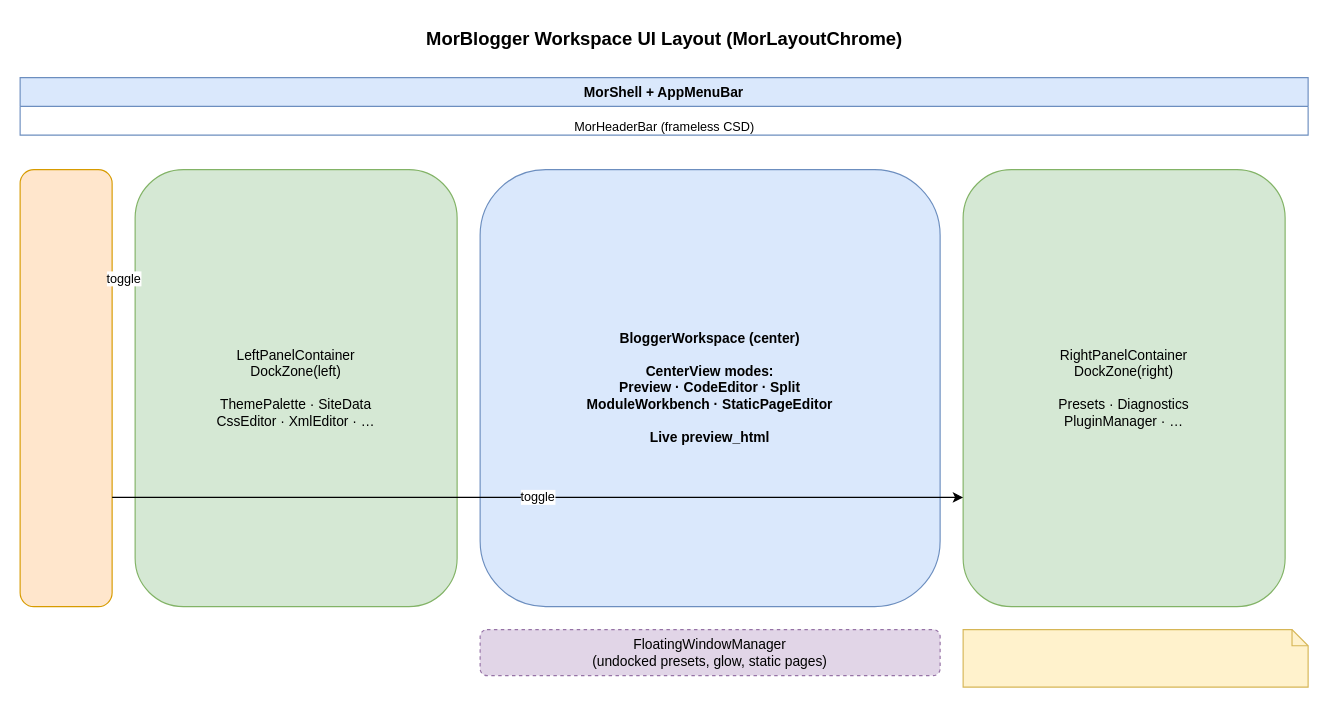
Some shapes in this 1328 by 707 pixel diagram are drawn without their labels. Each missing label, with the centre of its shape:
"ActivityBar 48px 10 dock toggles" goes at point (65, 387).
"LayoutState: DockPosition · CenterView · pinned_docks" goes at point (1135, 657).
